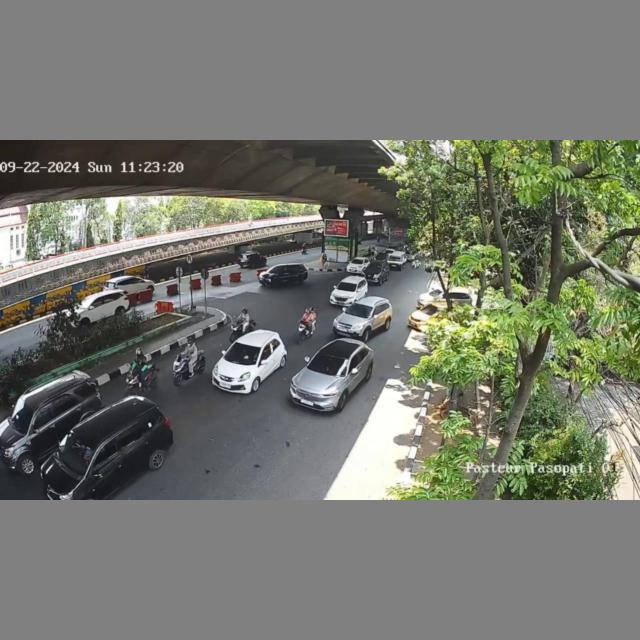windshield: (55, 432, 96, 477), (307, 352, 348, 379), (221, 342, 262, 364), (8, 397, 34, 430), (344, 302, 374, 319), (335, 281, 360, 292)
